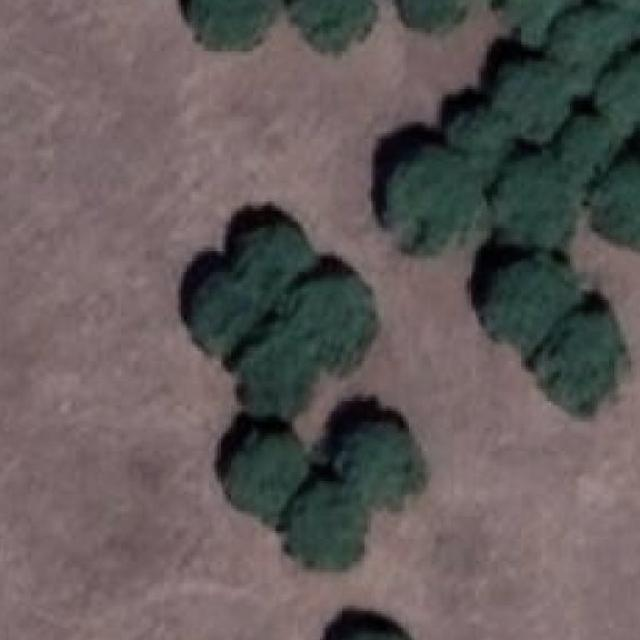Tree: (492, 254, 568, 346), (542, 314, 614, 409), (392, 155, 473, 239), (294, 276, 370, 364), (228, 430, 303, 517), (237, 331, 309, 415), (292, 486, 364, 564), (346, 424, 416, 500), (496, 176, 568, 242), (498, 67, 568, 133), (556, 15, 631, 74), (196, 278, 262, 344), (451, 116, 510, 176), (192, 0, 270, 44), (246, 228, 306, 283), (598, 170, 640, 248), (506, 0, 584, 39), (564, 119, 618, 172), (303, 0, 370, 41), (603, 56, 640, 120), (403, 0, 459, 26), (600, 0, 640, 26), (340, 628, 418, 640)
